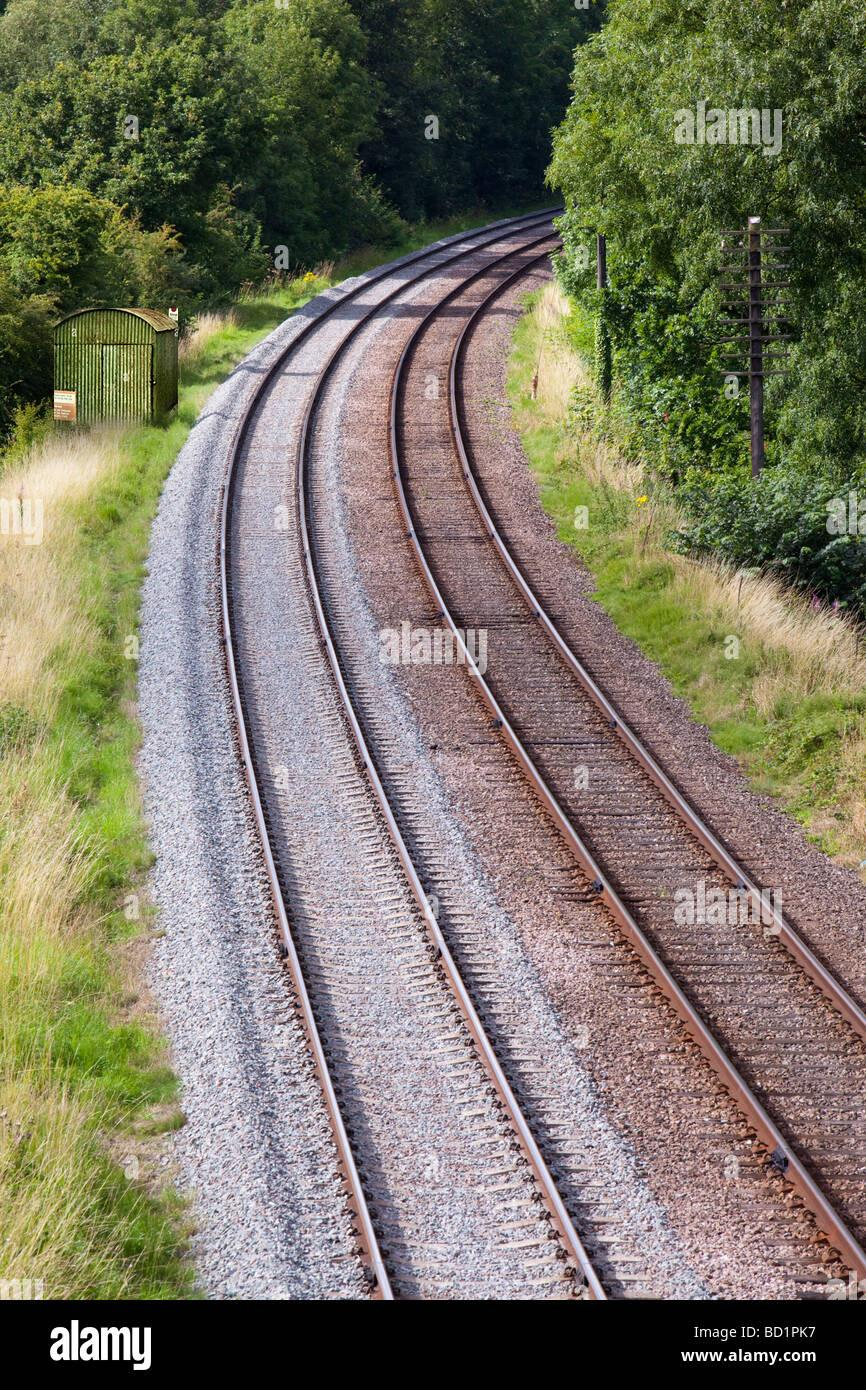Green_house: (35, 298, 192, 435)
